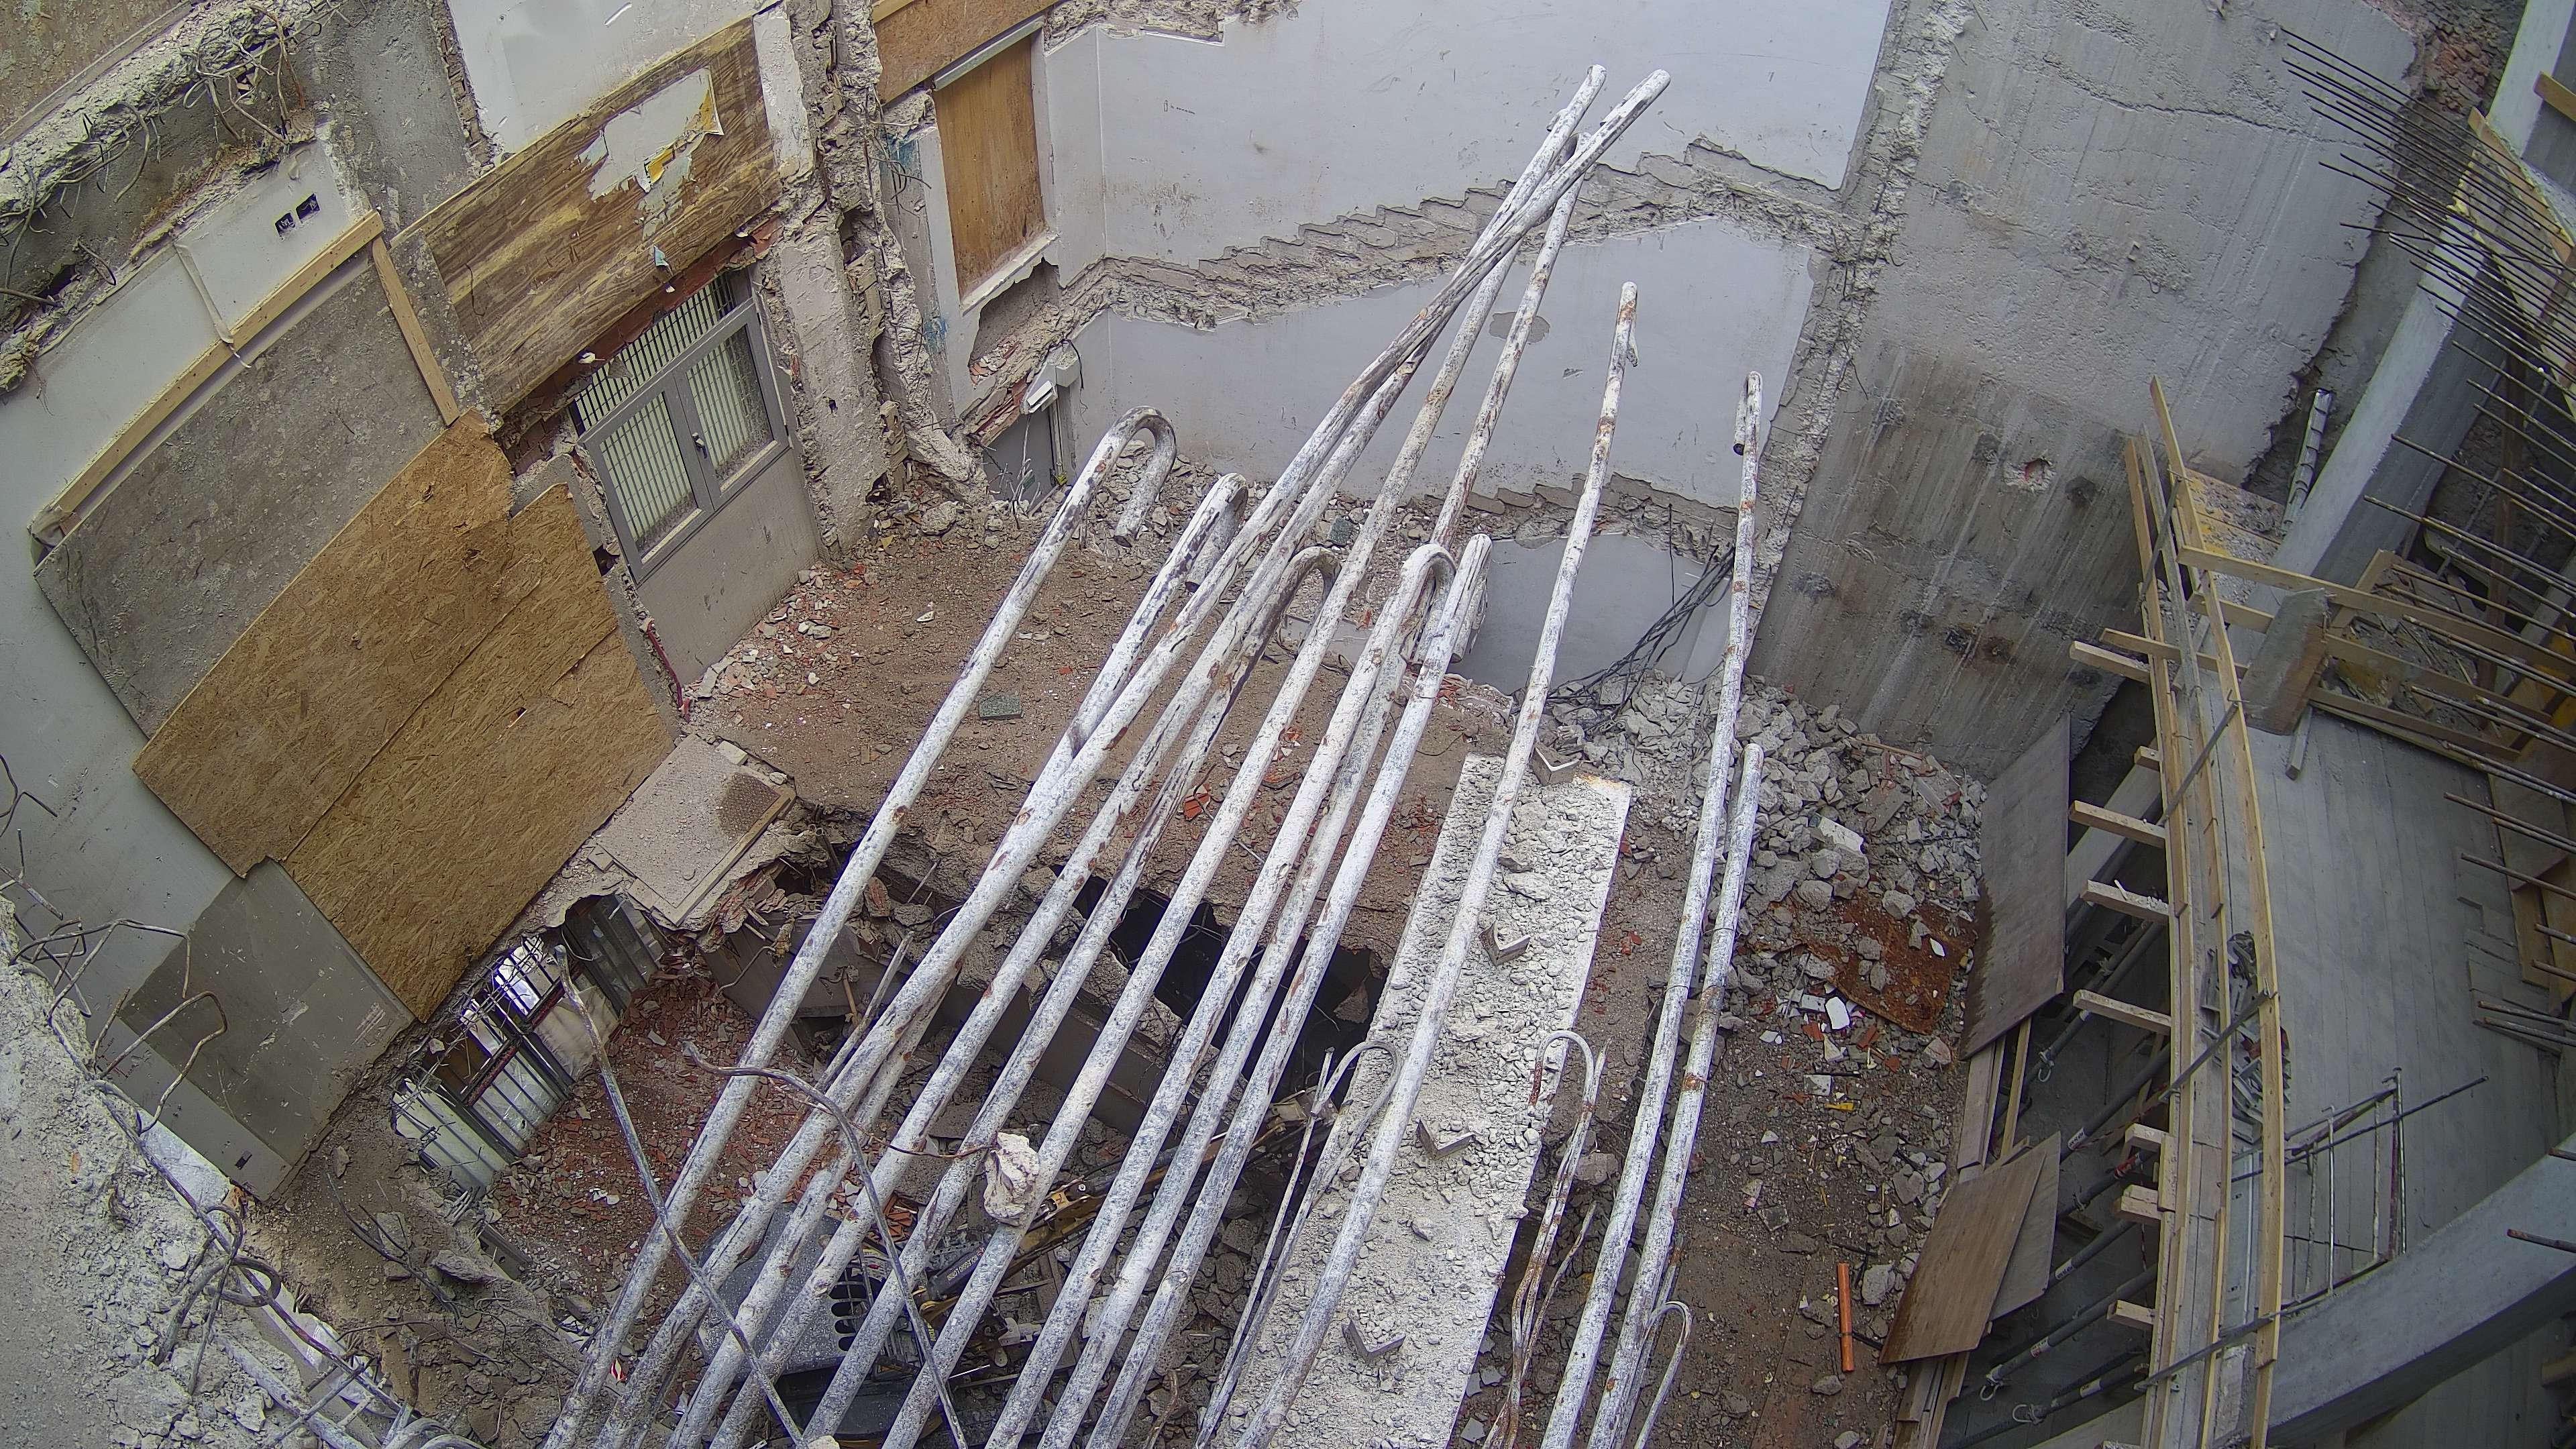excavator: (690, 1081, 1341, 1449)
